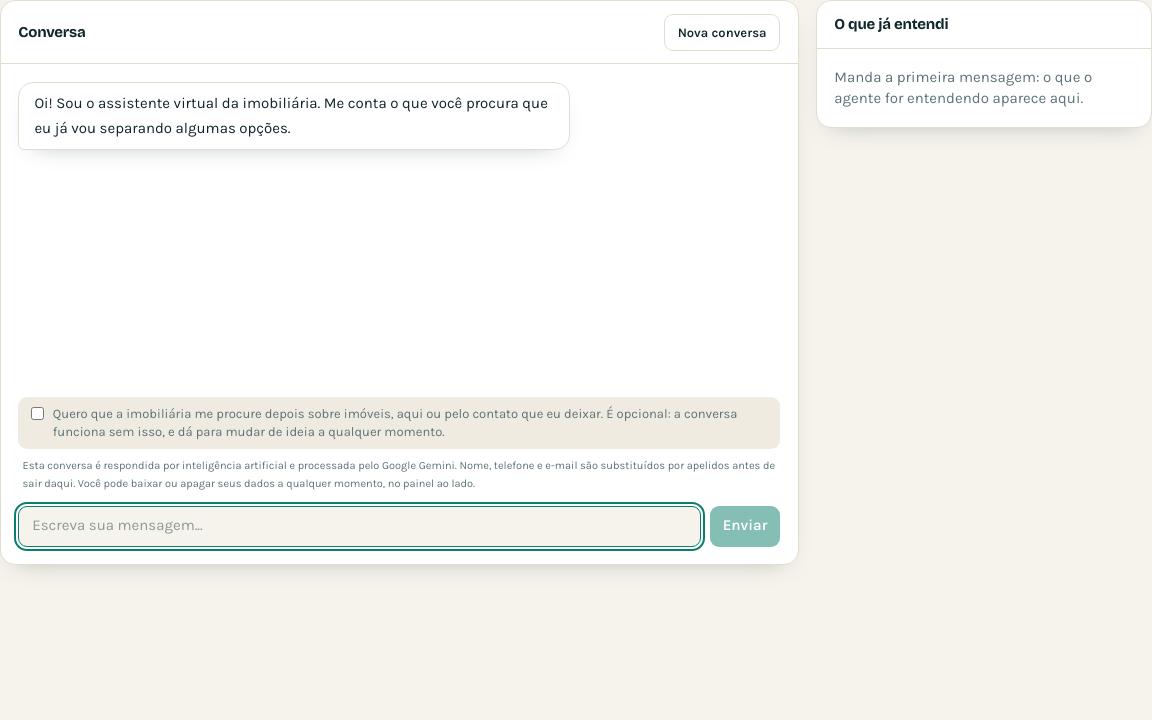
o que o payload do turno vira na tela › distingue correção de anotação nova
The width and height of the screenshot is (1152, 720).
Type "na verdade 3 quartos" into the field with placeholder "Escreva sua mensagem..." at (360, 526), box x1=18 y1=506 x2=701 y2=547
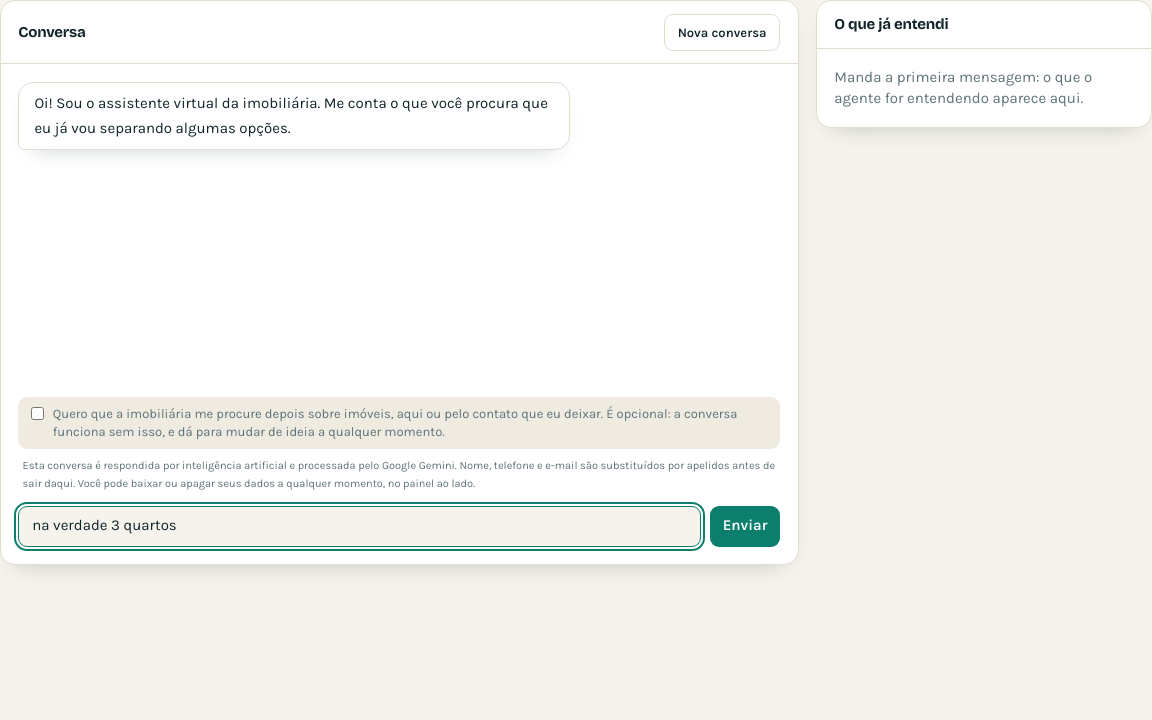
Click the button "Enviar" at (745, 526), box x1=710 y1=506 x2=780 y2=547
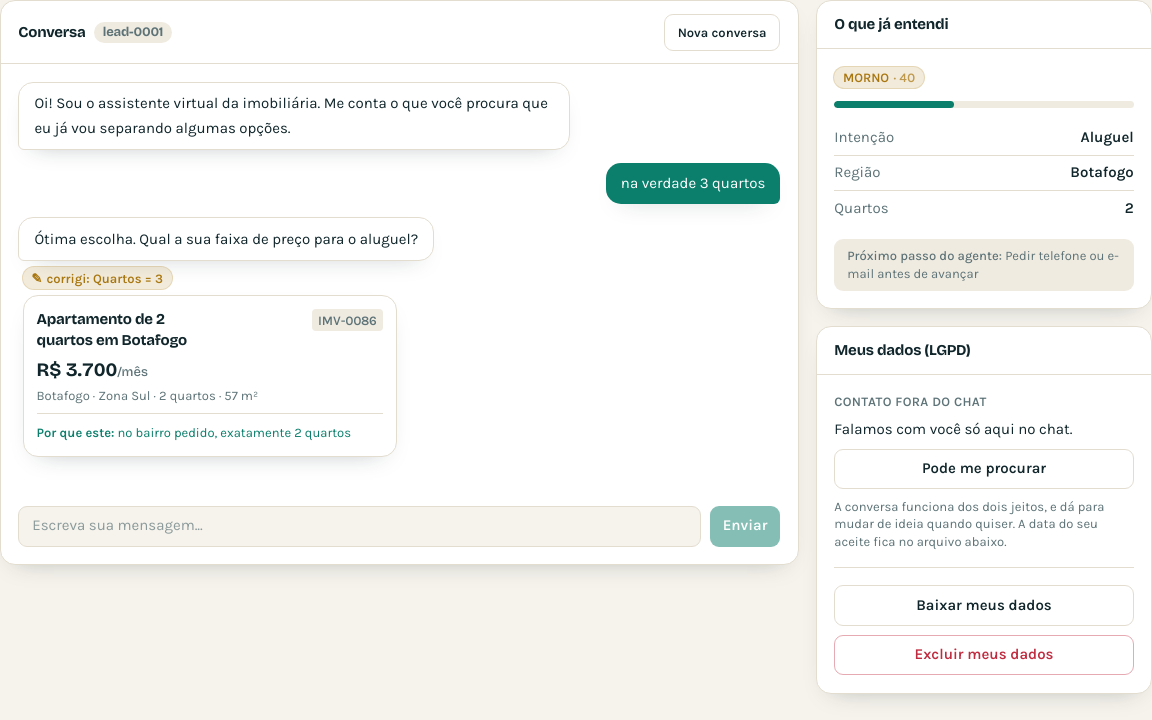
Result: the text "✎ corrigi: Quartos = 3" is shown at x1=23 y1=267 x2=172 y2=289
